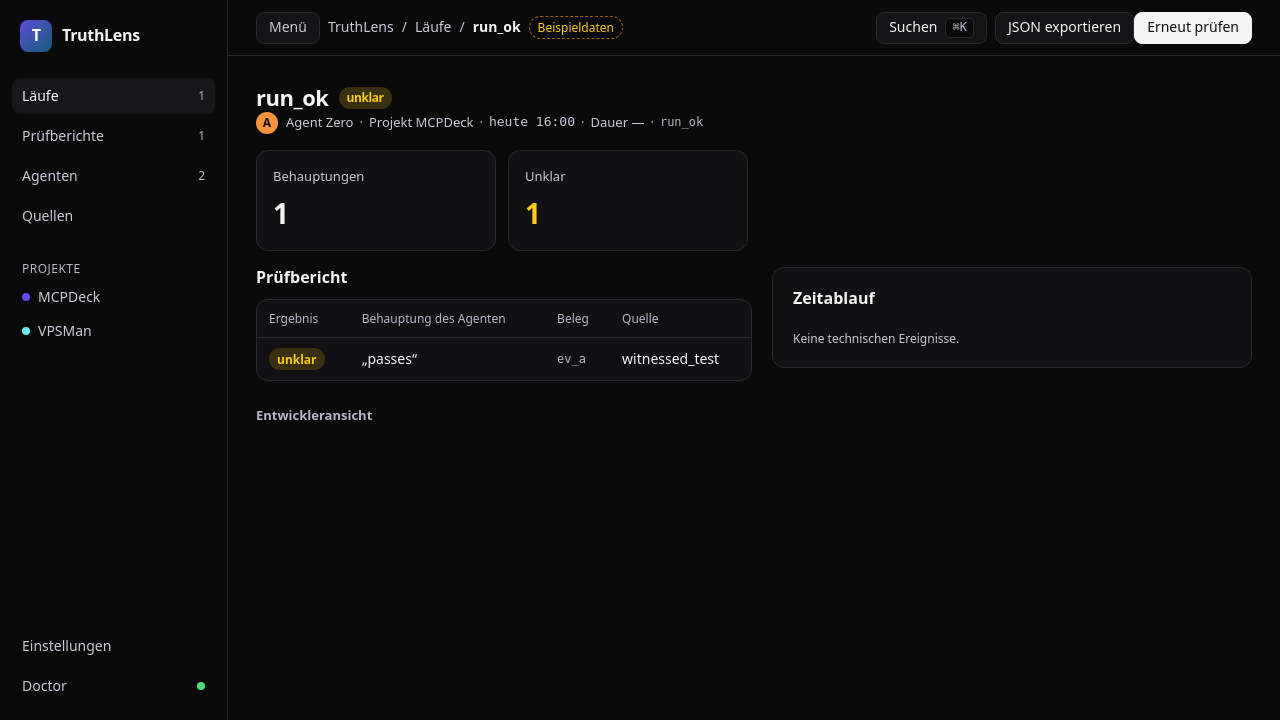
Test: states that recheck does not start in the browser
Click the button "Erneut prüfen".
click(1193, 28)  # box [1134,12,1252,44]
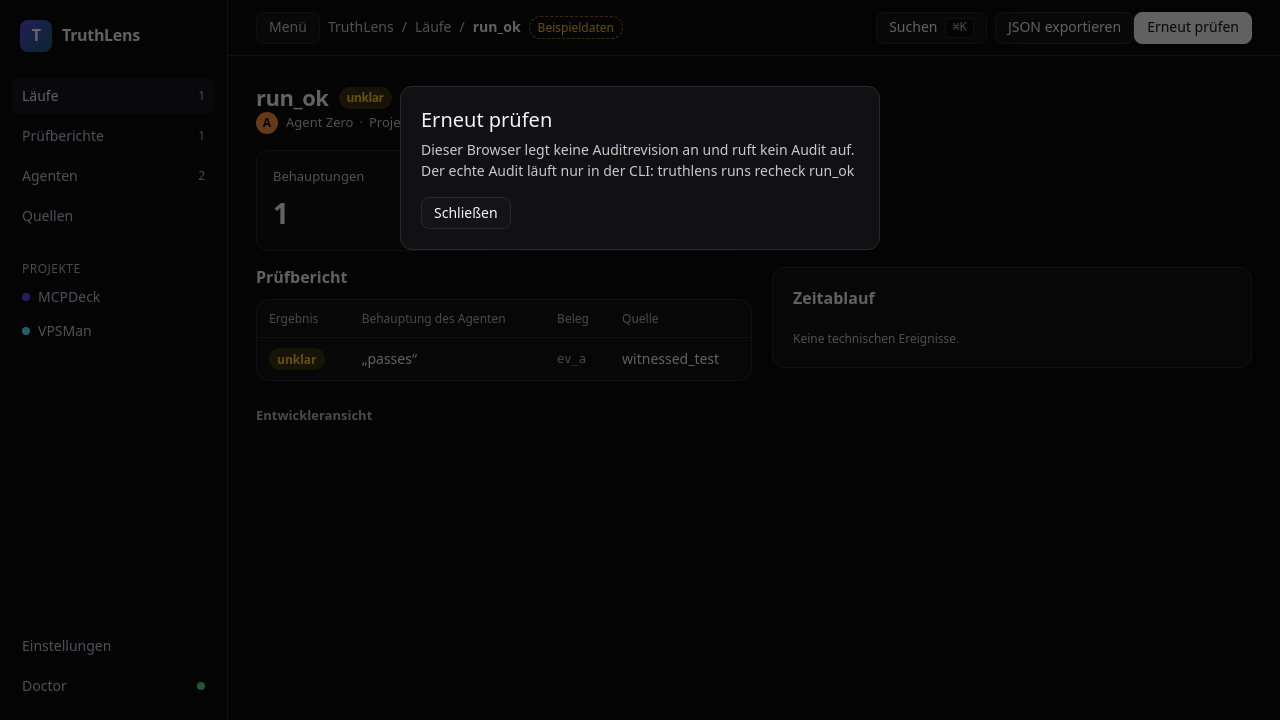
Expected: the dialog shows "Dieser Browser legt keine Auditrevision an und ruft kein Audit auf.", [421,140,855,159]
Expected: the dialog shows "truthlens runs recheck run_ok", [400,86,880,250]
